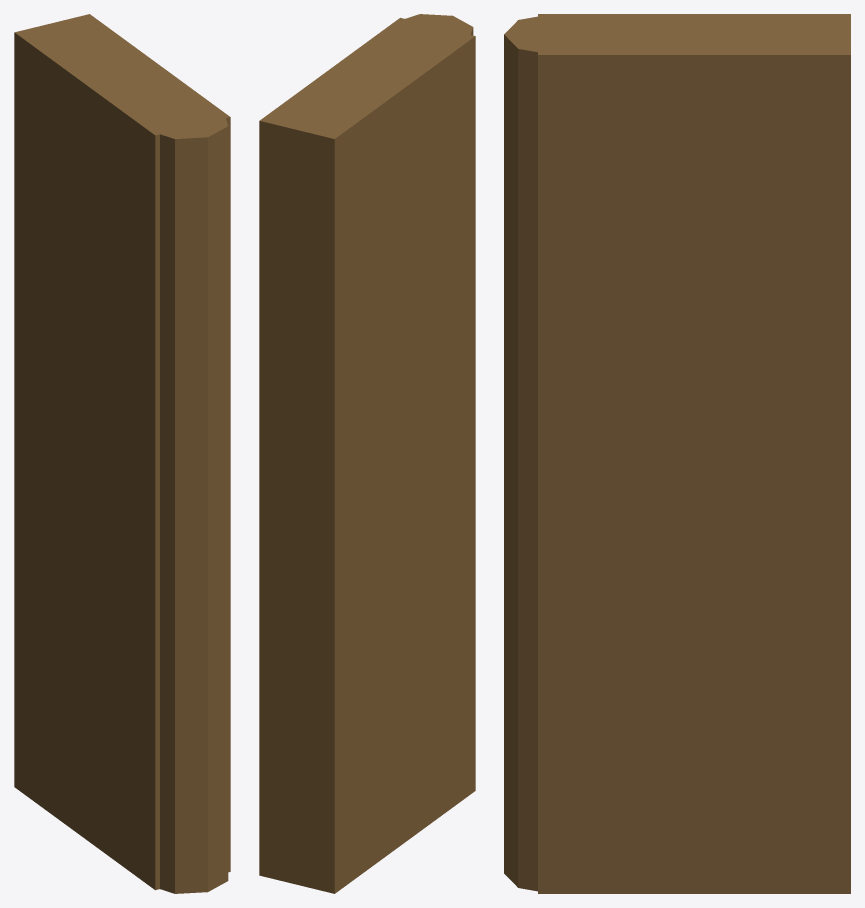
File: rudder_pivot.glb
The picture shows the model from 3 angles, left to right: view 1: azimuth 30°, elevation 25°; view 2: azimuth 150°, elevation 25°; view 3: azimuth 270°, elevation 25°; orthographic projection. The views are drawn at different scales.
Visible parts, largest first — view 1: rudder, rudder_hinge; view 2: rudder, rudder_hinge; view 3: rudder, rudder_hinge.
Boxes of the visible parts, left/top/right/bottom form: rudder: left=14, top=14, right=230, bottom=890; rudder_hinge: left=146, top=103, right=228, bottom=893; rudder: left=259, top=17, right=475, bottom=893; rudder_hinge: left=389, top=14, right=473, bottom=48; rudder: left=538, top=14, right=850, bottom=893; rudder_hinge: left=504, top=14, right=596, bottom=891.
Size of the model in its own units: 0.11 by 1.05 by 0.3946.
